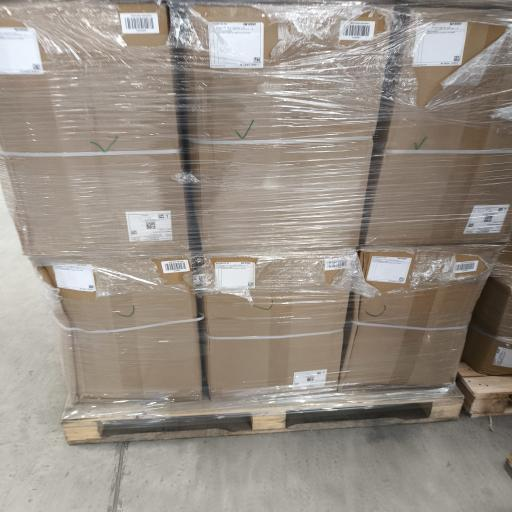pallet: (62, 386, 463, 444), (457, 363, 511, 417)
